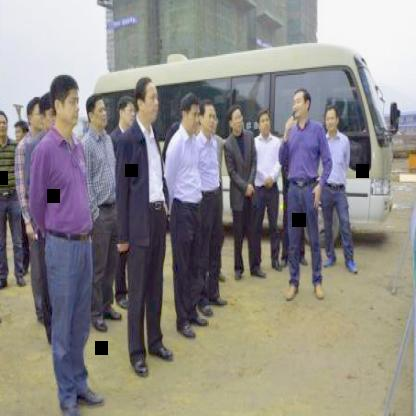head: (48, 72, 82, 133), (136, 73, 158, 125), (180, 92, 202, 138), (85, 92, 109, 130), (292, 84, 312, 124), (30, 95, 48, 138), (117, 92, 135, 132), (203, 100, 221, 136), (227, 107, 245, 136), (254, 108, 272, 137), (324, 104, 338, 134), (0, 105, 10, 139)
